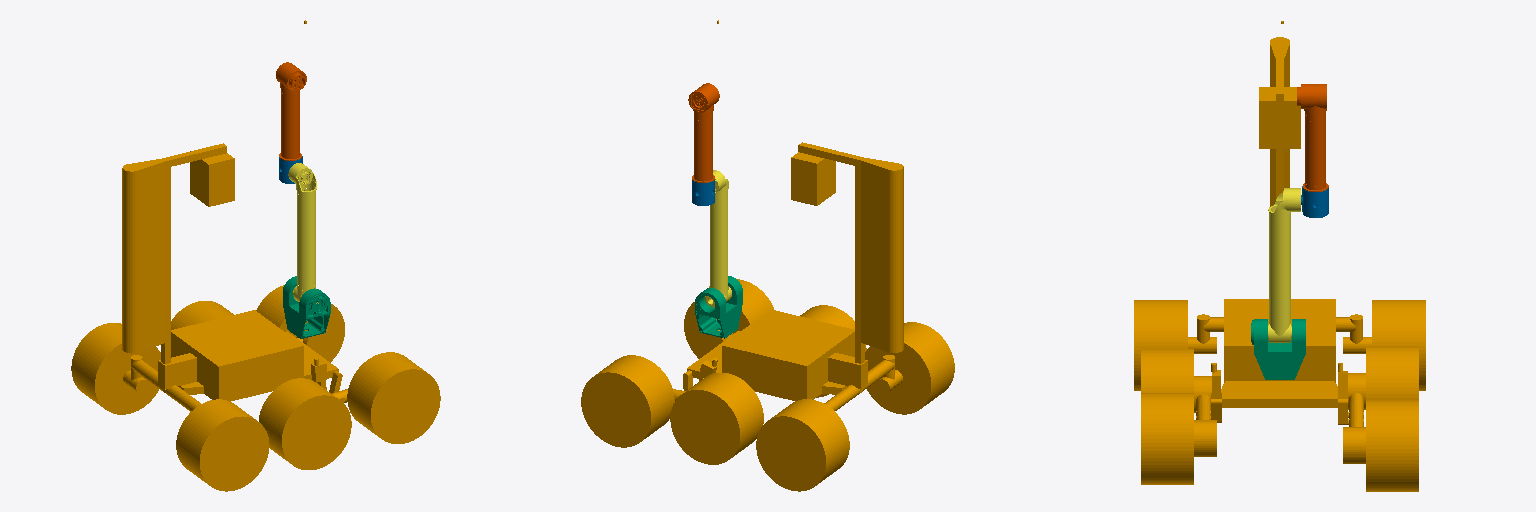
URDF robot description (rover):
<?xml version="1.0" ?>
<!-- =================================================================================== -->
<!-- |    This document was autogenerated by xacro from rover_urdf.xacro               | -->
<!-- |    EDITING THIS FILE BY HAND IS NOT RECOMMENDED                                 | -->
<!-- =================================================================================== -->
<!--
Urdf for the rover of the DAM Robotics Rover triple bogie system.
-->
<robot name="rover">
  <link name="rover_base_origin">
    <visual>
      <origin rpy="0 0 1.5708" xyz="0.26035 0 0"/>
      <geometry>
        <mesh filename="package://rover_urdf/urdf/stl_files/rover_body.stl" scale="0.001 0.001 0.001"/>
      </geometry>
    </visual>
    <collision>
      <origin rpy="0 0 1.5708" xyz="0 0 0"/>
      <geometry>
        <mesh filename="package://rover_urdf/urdf/stl_files/rover_body.stl" scale="0.001 0.001 0.001"/>
      </geometry>
    </collision>
  </link>
  <!--DEFINING ROBOT LINKS IN ORDER FROM BASE TO HAND-->
  <link name="rover_arm_base_link">
    <visual>
      <origin rpy="0 0 -1.5708" xyz="0 0 0"/>
      <geometry>
        <mesh filename="package://rover_arm_urdf/urdf/dae_files/base_link.dae"/>
      </geometry>
    </visual>
    <collision>
      <origin rpy="0 0 -1.5708" xyz="0 0 0"/>
      <geometry>
        <mesh filename="package://rover_arm_urdf/urdf/stl_files/base_link.stl"/>
      </geometry>
    </collision>
  </link>
  <!-- <link name="rover_base_origin">
      <visual>
        <origin rpy="0 0 1.5708" xyz="0.26035 0 0"/>
        <geometry>
          <mesh filename="package://rover_arm_urdf/urdf/stl_files/rover_body.stl" scale="0.001 0.001 0.001"/>
        </geometry>
      </visual>
      <collision>
        <origin rpy="0 0 1.5708" xyz="0 0 0"/>
        <geometry>
          <mesh filename="package://rover_arm_urdf/urdf/stl_files/rover_body.stl" scale="0.001 0.001 0.001"/>
        </geometry>
      </collision>
    </link> -->
  <link name="rover_arm_shoulder">
    <visual>
      <origin rpy="0 0 0" xyz="-0.043 -0.056 0"/>
      <geometry>
        <mesh filename="package://rover_arm_urdf/urdf/dae_files/arm_link_0.dae"/>
      </geometry>
    </visual>
    <collision>
      <origin rpy="0 0 0" xyz="-0.043 -0.056 0"/>
      <geometry>
        <mesh filename="package://rover_arm_urdf/urdf/stl_files/arm_link_0.stl"/>
      </geometry>
    </collision>
    <inertial>
      <mass value="1"/>
      <inertia ixx="1.0" ixy="0.0" ixz="0.0" iyy="1.0" iyz="0.0" izz="1.0"/>
    </inertial>
  </link>
  <link name="rover_arm_elbow_pitch">
    <visual>
      <origin rpy="0 0 0" xyz="0 0 0"/>
      <geometry>
        <mesh filename="package://rover_arm_urdf/urdf/dae_files/arm_link_1.dae"/>
      </geometry>
    </visual>
    <collision>
      <origin rpy="0 0 0" xyz="0 0 0"/>
      <geometry>
        <mesh filename="package://rover_arm_urdf/urdf/stl_files/arm_link_1.stl"/>
      </geometry>
    </collision>
    <inertial>
      <mass value="1"/>
      <inertia ixx="1.0" ixy="0.0" ixz="0.0" iyy="1.0" iyz="0.0" izz="1.0"/>
    </inertial>
  </link>
  <link name="rover_arm_elbow_roll">
    <visual>
      <origin rpy="0 0 0" xyz="0.063 0.000654 -0.040895"/>
      <geometry>
        <mesh filename="package://rover_arm_urdf/urdf/dae_files/arm_link_2.dae"/>
      </geometry>
    </visual>
    <collision>
      <origin rpy="0 0 0" xyz="0.063 0.000654 -0.040895"/>
      <geometry>
        <mesh filename="package://rover_arm_urdf/urdf/stl_files/arm_link_2.stl"/>
      </geometry>
    </collision>
    <inertial>
      <mass value="1"/>
      <inertia ixx="1.0" ixy="0.0" ixz="0.0" iyy="1.0" iyz="0.0" izz="1.0"/>
    </inertial>
  </link>
  <link name="rover_arm_wrist_pitch">
    <visual>
      <origin rpy="0 0 0" xyz="0 0 -0.0086"/>
      <geometry>
        <mesh filename="package://rover_arm_urdf/urdf/dae_files/arm_link_3.dae"/>
      </geometry>
    </visual>
    <collision>
      <origin rpy="0 0 0" xyz="0 0 -0.0086"/>
      <geometry>
        <mesh filename="package://rover_arm_urdf/urdf/stl_files/arm_link_3.stl"/>
      </geometry>
    </collision>
    <inertial>
      <mass value="1"/>
      <inertia ixx="1.0" ixy="0.0" ixz="0.0" iyy="1.0" iyz="0.0" izz="1.0"/>
    </inertial>
  </link>
  <link name="rover_arm_wrist_roll">
    <visual>
      <origin rpy="0 0 1.57079632679" xyz="0 0 0"/>
      <geometry>
        <mesh filename="package://rover_arm_urdf/urdf/dae_files/arm_link_4.dae"/>
      </geometry>
    </visual>
    <collision>
      <origin rpy="0 0 1.57079632679" xyz="0 0 0"/>
      <geometry>
        <mesh filename="package://rover_arm_urdf/urdf/stl_files/arm_link_4.stl"/>
      </geometry>
    </collision>
    <inertial>
      <mass value="1"/>
      <inertia ixx="1.0" ixy="0.0" ixz="0.0" iyy="1.0" iyz="0.0" izz="1.0"/>
    </inertial>
  </link>
  <link name="rover_arm_gripper">
    <visual>
      <origin rpy="0 0 0" xyz="-0.038106 0.015875 0.14921"/>
      <geometry>
        <mesh filename="package://rover_arm_urdf/urdf/dae_files/arm_gripper.dae"/>
      </geometry>
    </visual>
    <collision>
      <origin rpy="1.57079632679 0 0" xyz="0 0 0"/>
      <!-- (-0.038106 0.015875 0.14921) 2021 old gripper-->
      <geometry>
        <mesh filename="package://rover_arm_urdf/urdf/stl_files/arm_1819_gripper.stl" scale="0.001 0.001 0.001"/>
        <!--Get rid of scale for 2021 old griper-->
      </geometry>
    </collision>
    <inertial>
      <mass value="1"/>
      <inertia ixx="1.0" ixy="0.0" ixz="0.0" iyy="1.0" iyz="0.0" izz="1.0"/>
    </inertial>
  </link>
  <link name="rover_arm_jaws_link">
    <visual>
      <origin rpy="0 0 0" xyz="0 0 0"/>
      <geometry>
        <cylinder length="0.01" radius="0.005"/>
      </geometry>
    </visual>
  </link>
  <joint name="rover_arm_body_joint" type="fixed">
    <parent link="rover_base_origin"/>
    <child link="rover_arm_base_link"/>
    <!-- xyz = "-0.084615+0.26035, 0, 0.03175" original, xyz="0.175735 0 0.03175"fixed -->
    <origin rpy="0.0 0.0 0.0" xyz="0.175735 0 0.03175"/>
  </joint>
  <joint name="rover_arm_base_joint" type="revolute">
    <parent link="rover_arm_base_link"/>
    <child link="rover_arm_shoulder"/>
    <origin rpy="0 0 -1.5708" xyz="0.055 0 0.087245"/>
    <axis xyz="0 0 -1"/>
    <limit effort="1000.0" lower="-1.57079632679" upper="1.57079632679" velocity="5.5"/>
  </joint>
  <joint name="rover_arm_shoulder_joint" type="revolute">
    <parent link="rover_arm_shoulder"/>
    <child link="rover_arm_elbow_pitch"/>
    <origin rpy="0 0 3.14159" xyz="0 0 0.151443"/>
    <axis xyz="-1 0 0"/>
    <limit effort="1000.0" lower="-1.57079632679" upper="1.57079632679" velocity="3.5"/>
  </joint>
  <joint name="rover_arm_elbow_pitch_joint" type="revolute">
    <parent link="rover_arm_elbow_pitch"/>
    <child link="rover_arm_elbow_roll"/>
    <origin rpy="0 0 0" xyz="0.05925 0 0.501983"/>
    <axis xyz="-1 0 0"/>
    <limit effort="1000.0" lower="-3.1415926" upper="3.1415926" velocity="5.6"/>
  </joint>
  <joint name="rover_arm_elbow_roll_joint" type="revolute">
    <parent link="rover_arm_elbow_roll"/>
    <child link="rover_arm_wrist_pitch"/>
    <origin rpy="0 0 0" xyz="0.063 0.000654 0.059505"/>
    <axis xyz="0 0 -1"/>
    <limit effort="1000.0" lower="-3.141592653589793" upper="3.141592653589793" velocity="18.5"/>
  </joint>
  <joint name="rover_arm_wrist_pitch_joint" type="revolute">
    <parent link="rover_arm_wrist_pitch"/>
    <child link="rover_arm_wrist_roll"/>
    <origin rpy="0 0 0" xyz="-0.065 0 0.3318"/>
    <axis xyz="-1 0 0"/>
    <limit effort="1000.0" lower="-1.57079632679" upper="3.141592653589793" velocity="5.9"/>
  </joint>
  <joint name="rover_arm_wrist_roll_joint" type="continuous">
    <parent link="rover_arm_wrist_roll"/>
    <child link="rover_arm_gripper"/>
    <origin rpy="0 0 0" xyz="-0.050 0 0.050484"/>
    <axis xyz="0 0 1"/>
    <limit effort="1000.0" velocity="22.0"/>
  </joint>
  <joint name="rover_arm_gripper_jaws" type="fixed">
    <parent link="rover_arm_gripper"/>
    <child link="rover_arm_jaws_link"/>
    <origin rpy="0 0 0" xyz="0 0 0.23"/>
  </joint>
  <!-- Arm option for gripper -->
</robot>

--- Facts derived from the render (not from the file) ---
3 views of the same robot in one strip: view 1: azimuth 30°, elevation 25°; view 2: azimuth 150°, elevation 25°; view 3: azimuth 270°, elevation 25° (orthographic).
Model rover with 9 links and 8 joints (5 revolute, 1 continuous, 2 fixed), rooted at rover_base_origin, posed all joints at 0.
Links seen in each view (by area): view 1: rover_base_origin, rover_arm_elbow_pitch, rover_arm_wrist_pitch, rover_arm_shoulder; view 2: rover_base_origin, rover_arm_elbow_pitch, rover_arm_wrist_pitch, rover_arm_shoulder, rover_arm_elbow_roll; view 3: rover_base_origin, rover_arm_elbow_pitch, rover_arm_wrist_pitch, rover_arm_shoulder, rover_arm_elbow_roll.
Link boxes in pixels (<box>): rover_base_origin: <box>71,143,440,491</box>; rover_arm_elbow_pitch: <box>288,163,318,303</box>; rover_arm_wrist_pitch: <box>276,62,306,160</box>; rover_arm_shoulder: <box>283,276,330,338</box>; rover_base_origin: <box>581,142,954,491</box>; rover_arm_elbow_pitch: <box>706,170,731,307</box>; rover_arm_wrist_pitch: <box>688,83,719,182</box>; rover_arm_shoulder: <box>695,276,742,338</box>; rover_arm_elbow_roll: <box>692,180,714,205</box>; rover_base_origin: <box>1134,37,1425,491</box>; rover_arm_elbow_pitch: <box>1268,188,1300,342</box>; rover_arm_wrist_pitch: <box>1297,84,1328,191</box>; rover_arm_shoulder: <box>1251,319,1305,379</box>; rover_arm_elbow_roll: <box>1301,186,1328,217</box>.
Size in the robot's own frame: 1.16 by 0.9984 by 1.68 metres.
5 mesh visuals loaded from 8 distinct referenced files (1 binary STL, 4 Collada DAE); not drawn: 3 (reference not matched to a file when rendering).
